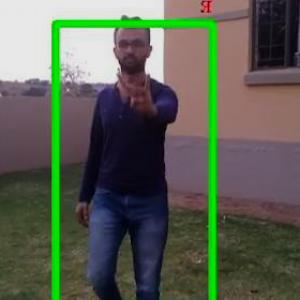takeoff-hand: (120, 66, 165, 120)
